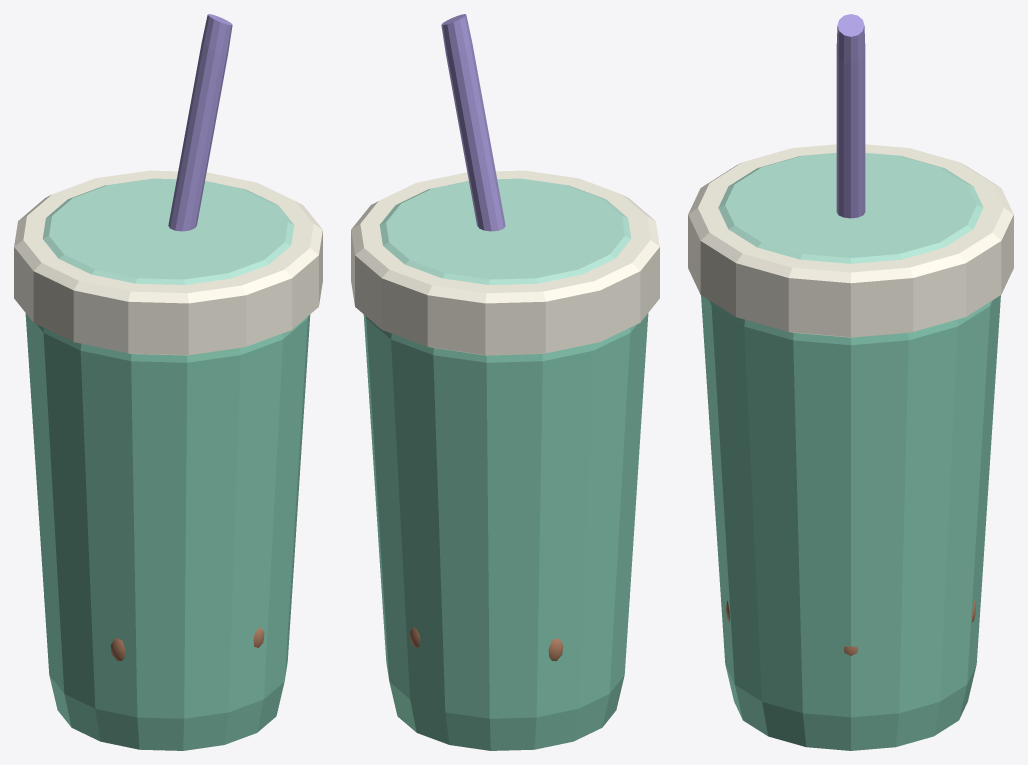
File: milk_tea_cup_3.glb
3 views of the same model, side by side, from view 1: azimuth 30°, elevation 25°; view 2: azimuth 150°, elevation 25°; view 3: azimuth 270°, elevation 25° (orthographic). The views are drawn at different scales.
Parts seen in each view (by area): view 1: cup, lid, model, straw; view 2: cup, lid, model, straw; view 3: cup, lid, model, straw.
Part boxes in pixels (bbox=[...]): cup: bbox=[25, 313, 310, 750]; lid: bbox=[14, 170, 322, 355]; model: bbox=[42, 178, 294, 661]; straw: bbox=[168, 14, 232, 231]; cup: bbox=[363, 313, 648, 750]; lid: bbox=[351, 170, 659, 355]; model: bbox=[379, 178, 631, 661]; straw: bbox=[441, 14, 505, 231]; cup: bbox=[701, 295, 1000, 750]; lid: bbox=[688, 144, 1013, 337]; model: bbox=[718, 153, 983, 655]; straw: bbox=[836, 14, 865, 218].
Size of the model in its own units: 0.2 by 0.48 by 0.2.
